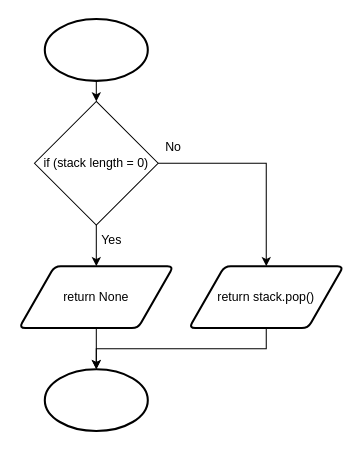
The diagram is 362 pixels wide and 449 high, and some of its shapes have lost their labels. Each missing label, with the centre of its shape:
"Start" belongs at point 95,49.
"Stop" belongs at point 95,400.
